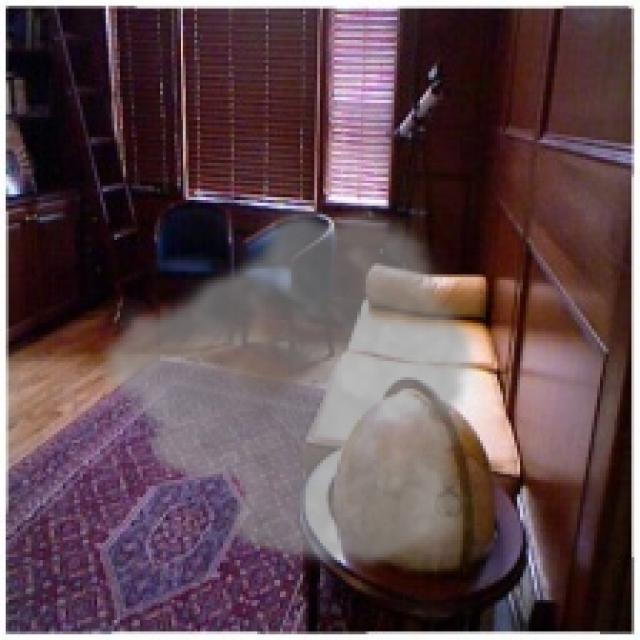smoke: (91, 197, 480, 574)
